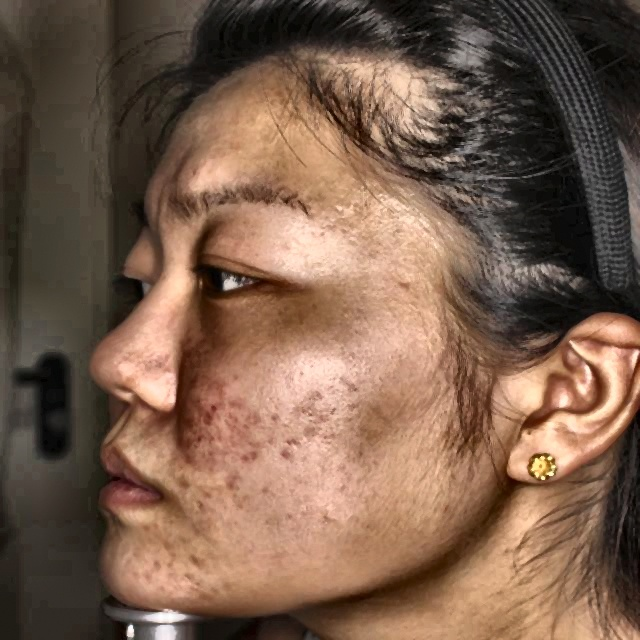comedone: (181, 418, 211, 461), (193, 400, 229, 424)
